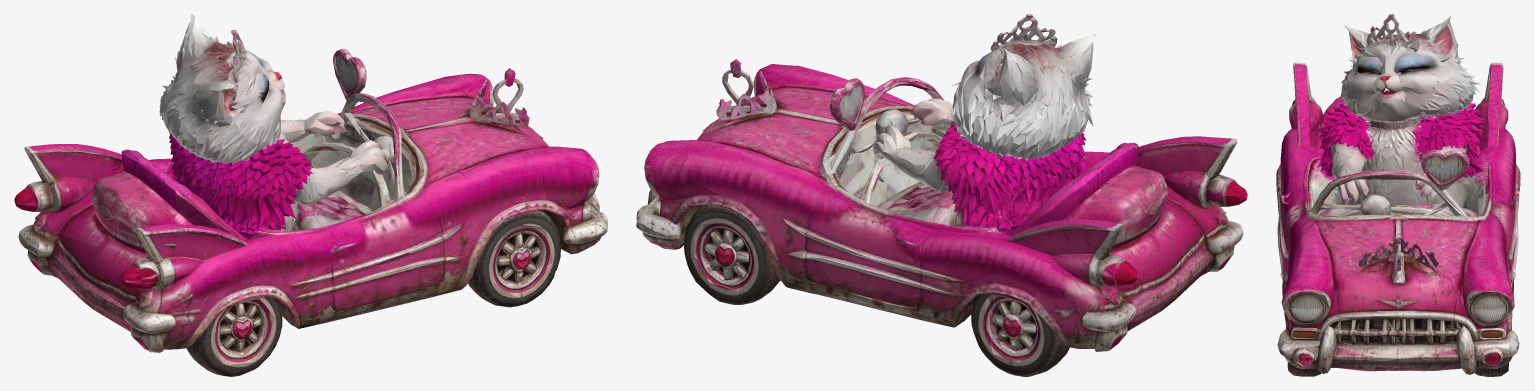
The model's file is sassy.glb.
The picture shows the model from 3 angles, left to right: view 1: azimuth 30°, elevation 25°; view 2: azimuth 150°, elevation 25°; view 3: azimuth 270°, elevation 25°; orthographic projection. The views are drawn at different scales.
Bounding box in the file's own units: 1.9 × 1.09 × 0.9279.
Materials: 1 (1 with a texture image).
